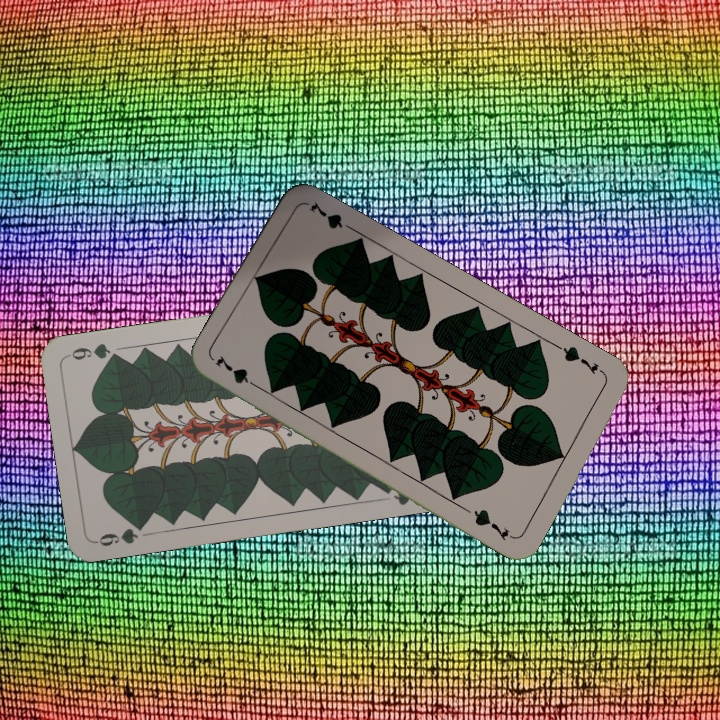G7: (211, 354, 265, 393), (554, 341, 608, 378)
G9: (92, 518, 149, 549)
